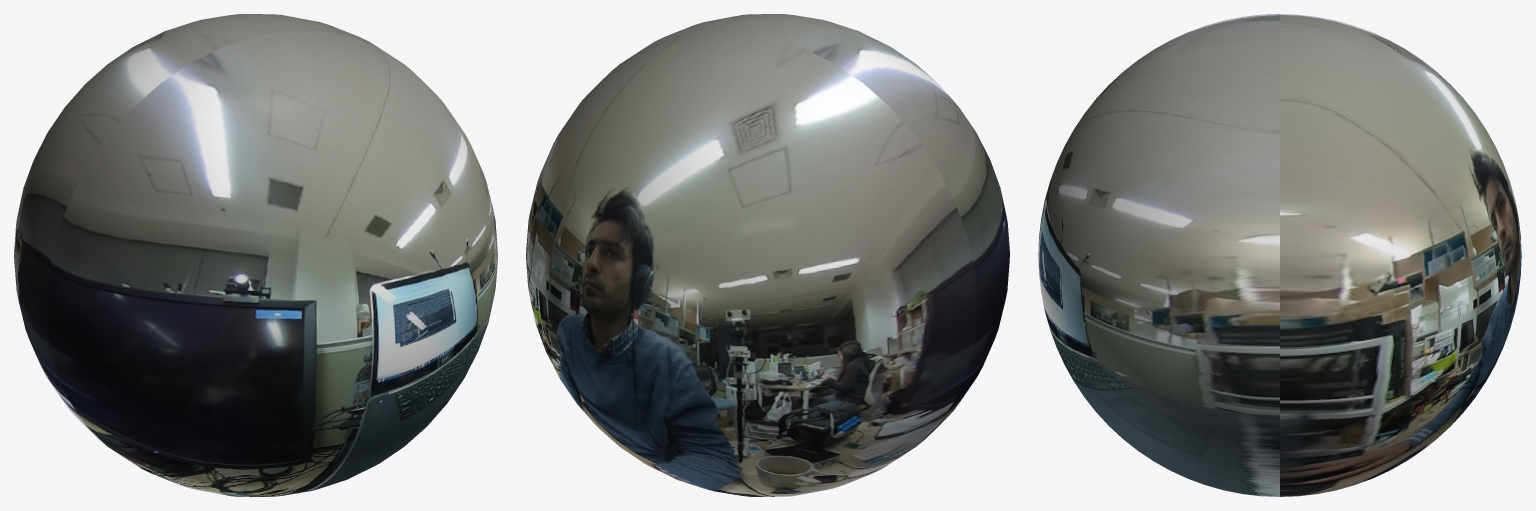
File: ThetaMesh_old.fbx
3 views of the same model, side by side, from view 1: azimuth 30°, elevation 25°; view 2: azimuth 150°, elevation 25°; view 3: azimuth 270°, elevation 25° (orthographic).
Visible parts, largest first — view 1: RicohThetaCamera; view 2: RicohThetaCamera; view 3: RicohThetaCamera.
Part boxes in pixels (x1=…): RicohThetaCamera: x1=14, y1=14, x2=497, y2=496; RicohThetaCamera: x1=526, y1=14, x2=1009, y2=496; RicohThetaCamera: x1=1038, y1=14, x2=1521, y2=496.
Size of the model in its own units: 2 by 2 by 2.
